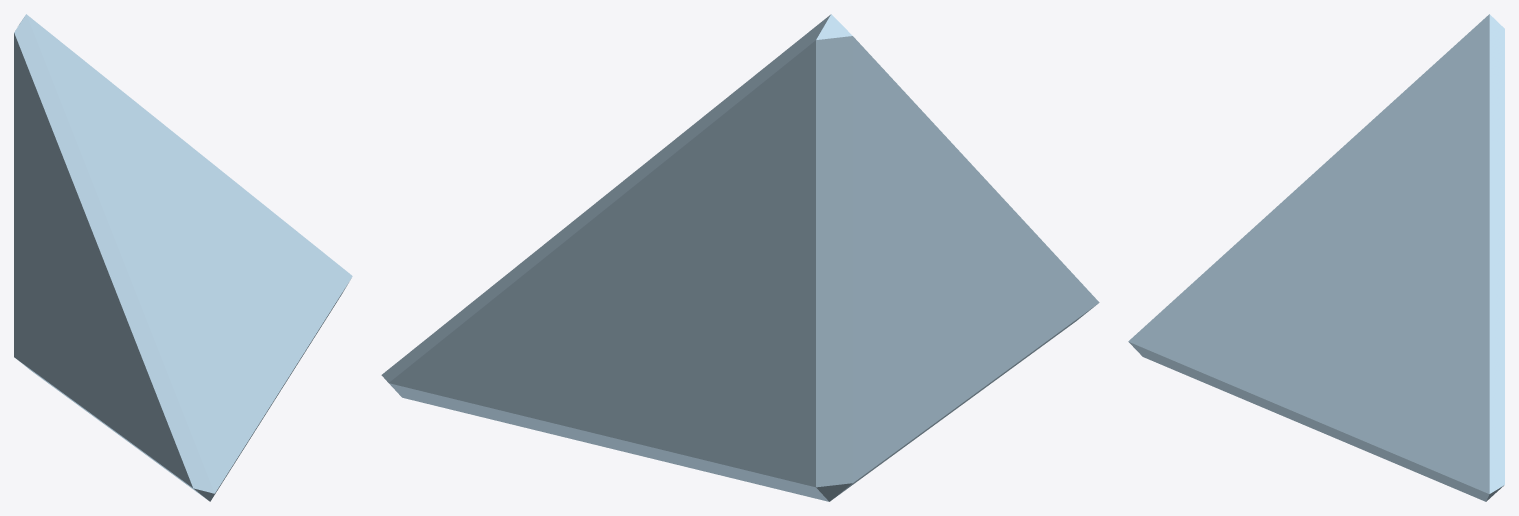
File: R4B_Tetra_LOD1.fbx
3 renders of one model, left to right at view 1: azimuth 30°, elevation 25°; view 2: azimuth 150°, elevation 25°; view 3: azimuth 270°, elevation 25°, orthographic. The views are drawn at different scales.
Parts seen in each view (by area): view 1: R4B_Tetra_LOD1; view 2: R4B_Tetra_LOD1; view 3: R4B_Tetra_LOD1.
Part boxes in pixels (x1,y1,x2,y2): R4B_Tetra_LOD1: [14, 14, 352, 501]; R4B_Tetra_LOD1: [381, 14, 1099, 501]; R4B_Tetra_LOD1: [1128, 14, 1504, 501].
Size of the model in its own units: 0.4808 by 0.4808 by 0.4808.
